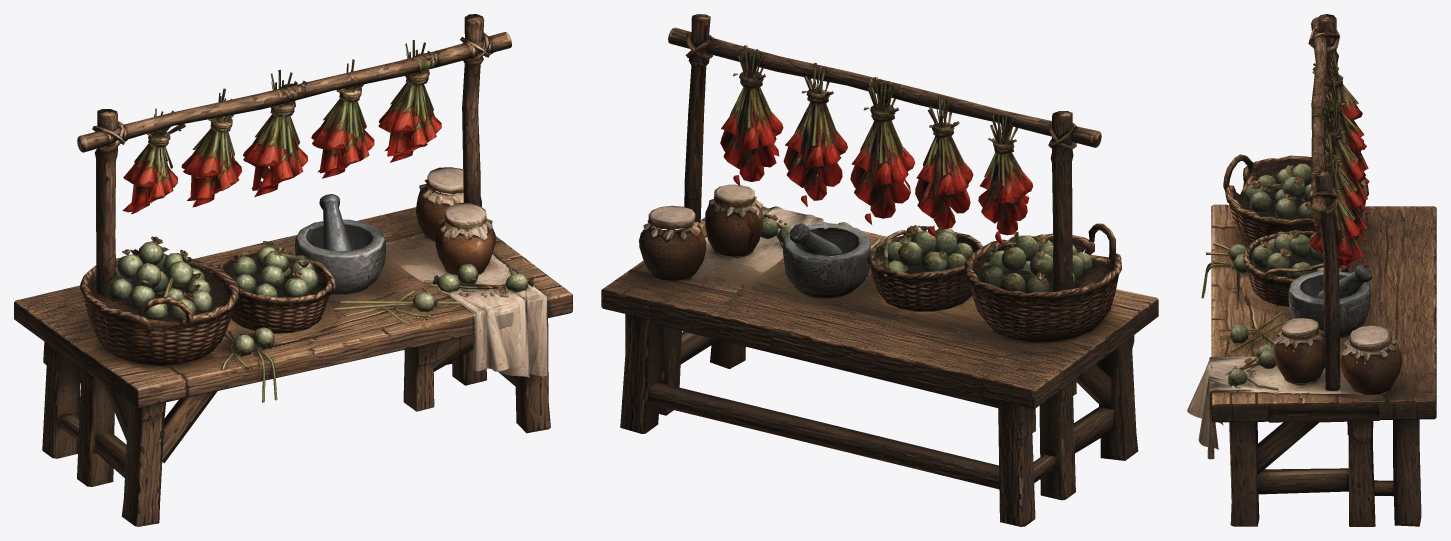
Rendered from act1-a20-6-harvest-table.glb.
The picture shows the model from 3 angles, left to right: view 1: azimuth 30°, elevation 25°; view 2: azimuth 150°, elevation 25°; view 3: azimuth 270°, elevation 25°; orthographic projection. The views are drawn at different scales.
Visible parts, largest first — view 1: act1-a20-6-harvest-table; view 2: act1-a20-6-harvest-table; view 3: act1-a20-6-harvest-table.
Part boxes in pixels (<box>): act1-a20-6-harvest-table: <box>14,14,572,526</box>; act1-a20-6-harvest-table: <box>601,14,1158,526</box>; act1-a20-6-harvest-table: <box>1187,14,1436,526</box>.
Bounding box in the file's own units: 2.6 × 2.17 × 1.43.
1 material, 1 textured.
